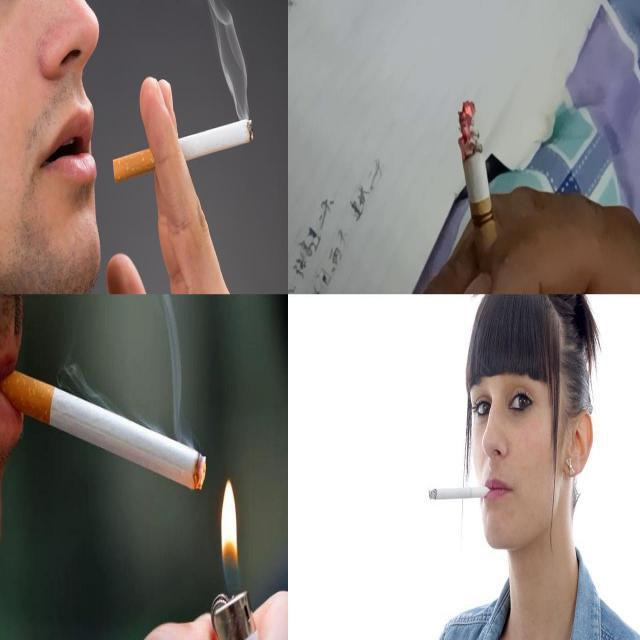smoke: (0, 363, 208, 492), (112, 117, 255, 183), (459, 100, 507, 294), (428, 486, 492, 501)
